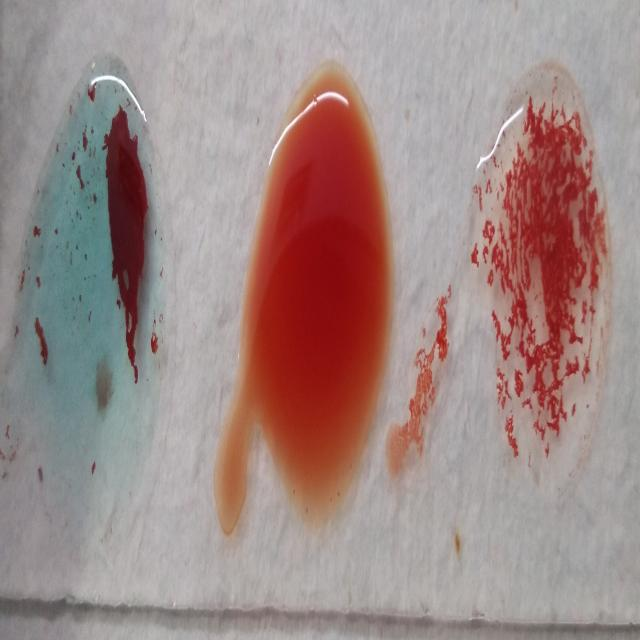A: (21, 60, 166, 480)
D: (488, 70, 608, 502)
